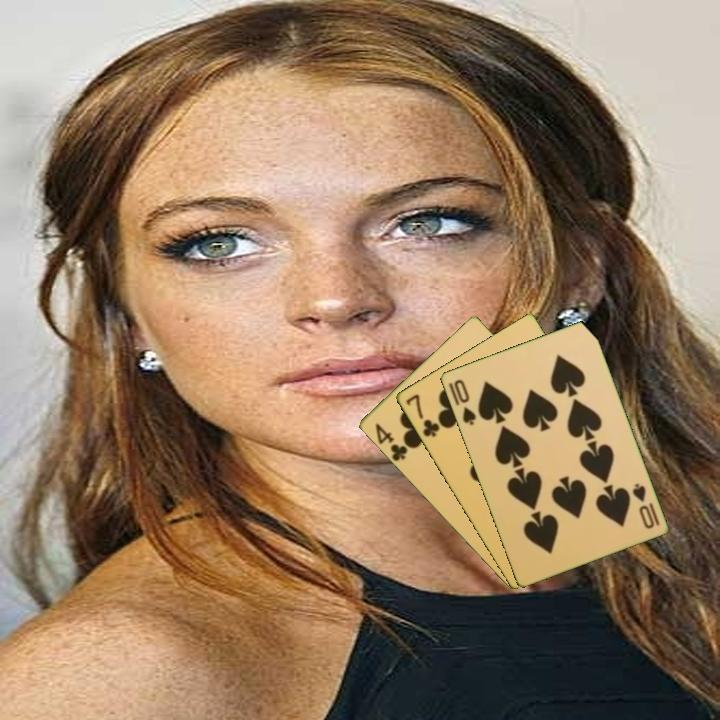10s: (445, 375, 479, 428), (628, 479, 662, 532)
4c: (371, 420, 410, 464)
7c: (402, 390, 442, 440)
